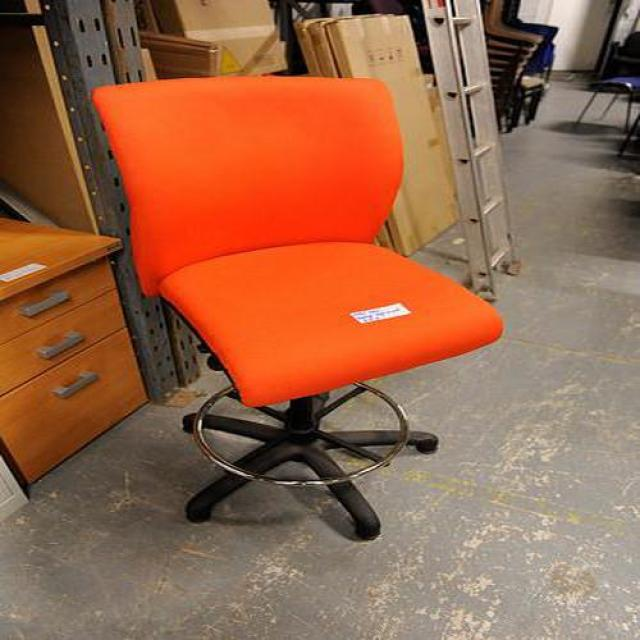swivelchair: (91, 76, 506, 544)
